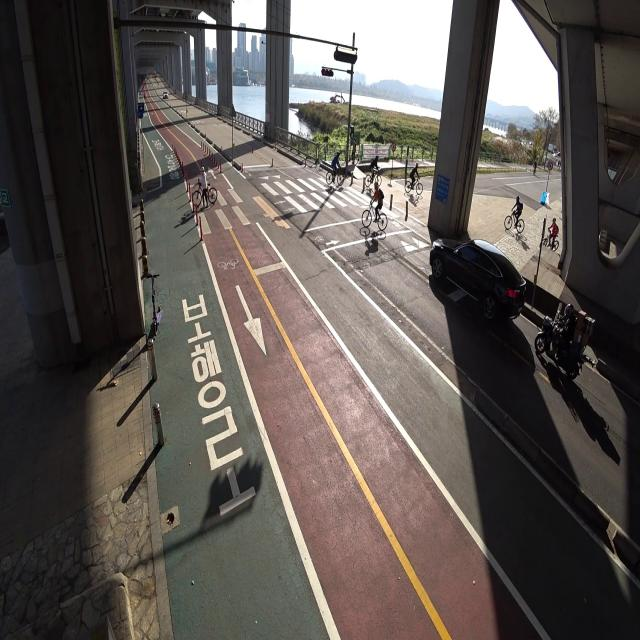Motorcycle: (534, 300, 596, 382)
